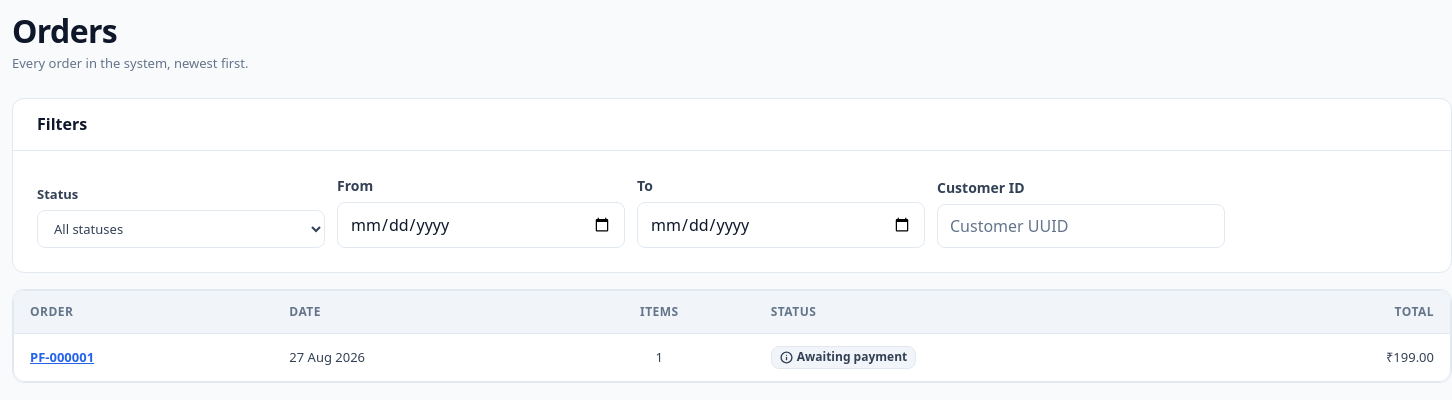
Scenario: AdminOrdersPage › has a status filter that adds ?status= and resets to page 1
Check: the link "PF-000001" is shown, box [30,348,94,366]
Select "Payment confirmed" in the dropdown labelled "Status" at (181, 229), box [37,210,325,248]
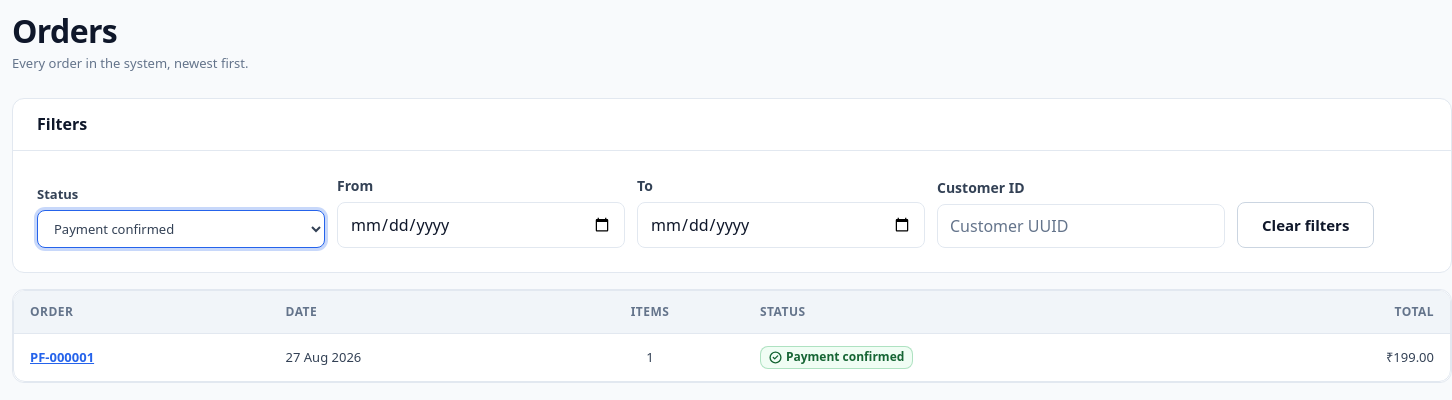
Check: the text "Payment confirmed" is shown, box [786,349,904,366]
